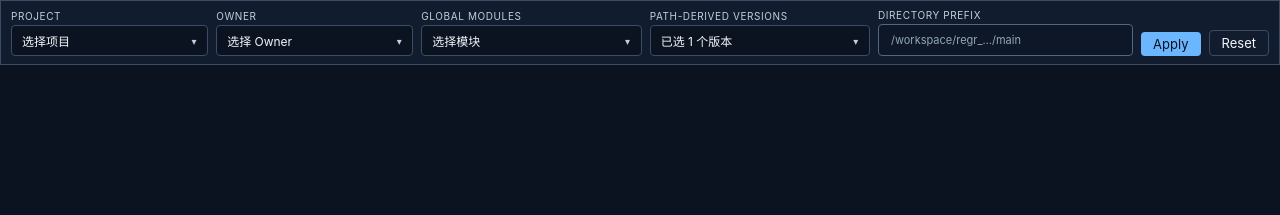
FilterBar path-derived version filter › renders path-derived versions as a multi-select dropdown
Click the button "已选 1 个版本 ▾" at (760, 40), box x1=650 y1=25 x2=870 y2=56
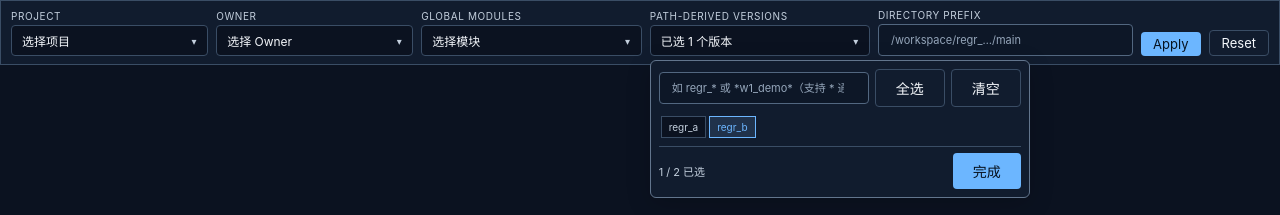
expect the buttons read "regr_a", "regr_b", in this order: met, box x1=661 y1=116 x2=706 y2=138; x1=709 y1=116 x2=756 y2=138
